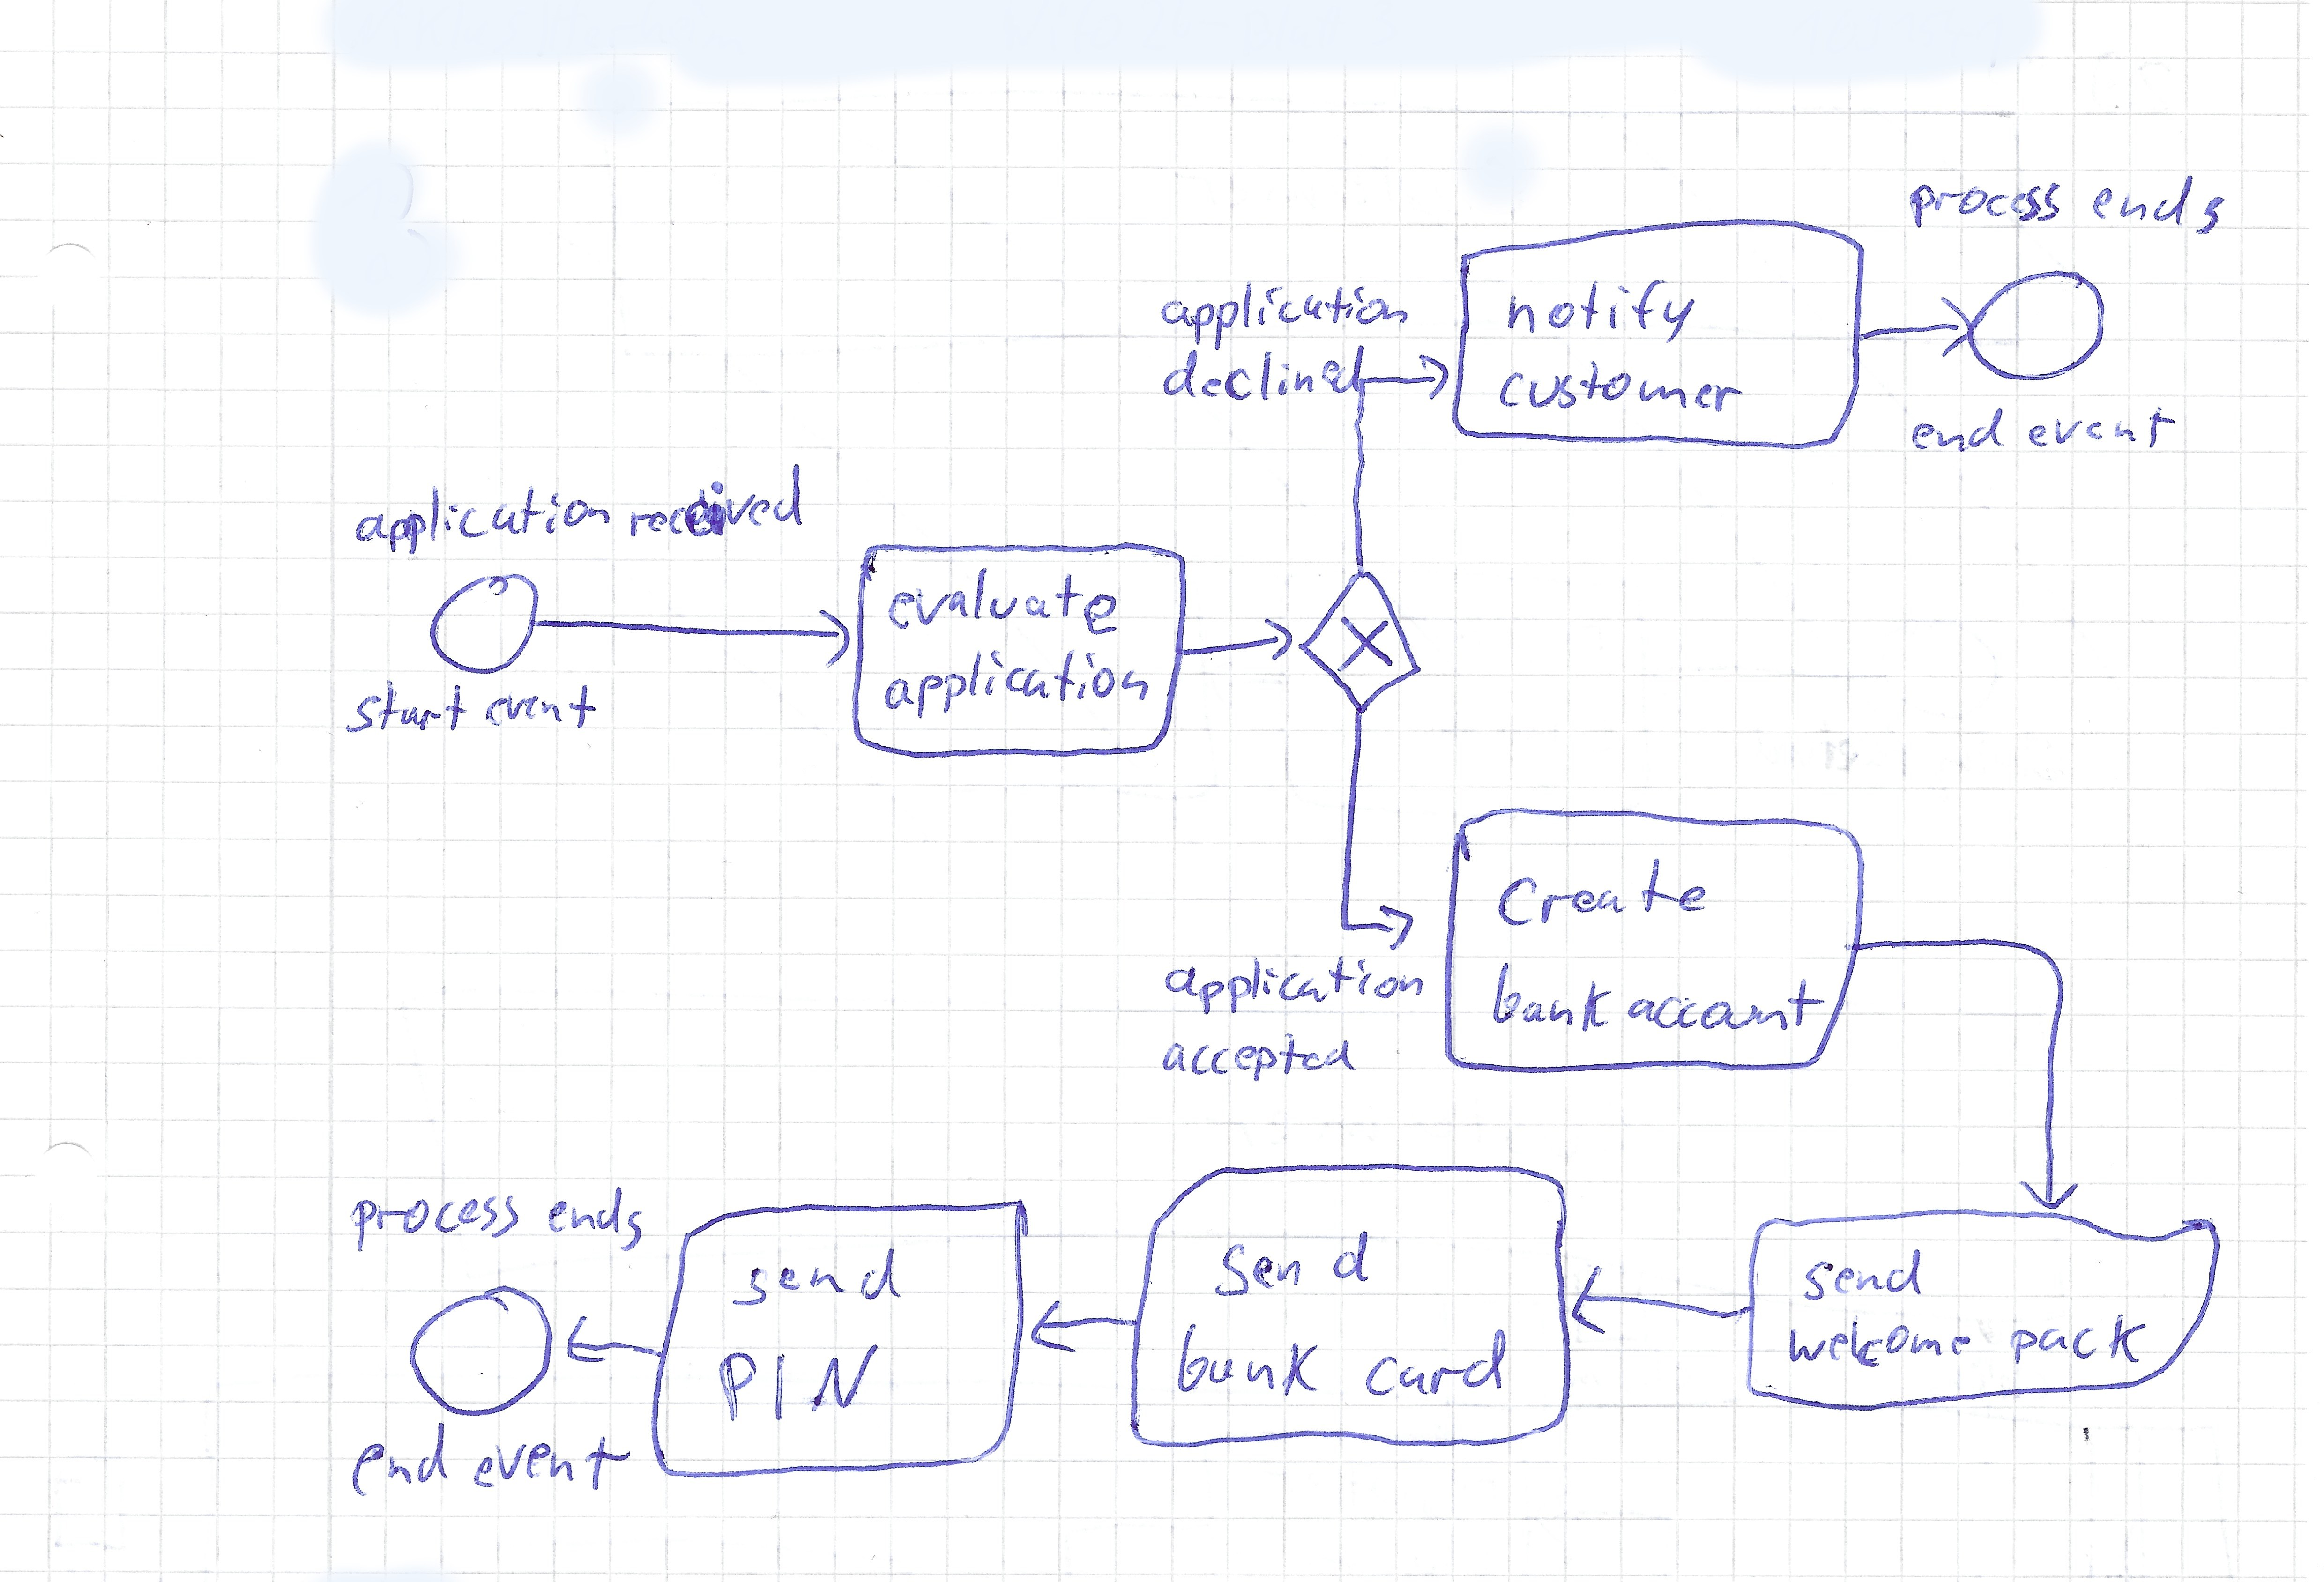PIN: (715, 1344, 881, 1421)
accepted: (1158, 1033, 1360, 1081)
account: (1626, 978, 1822, 1033)
application: (885, 646, 1151, 717), (357, 484, 613, 556), (1158, 281, 1411, 350), (1160, 953, 1427, 1013)
bank: (1171, 1324, 1319, 1402), (1492, 962, 1614, 1031)
card: (1360, 1328, 1513, 1404)
create: (1496, 858, 1709, 927)
customer: (1494, 358, 1741, 418)
declined: (1160, 346, 1370, 401)
end: (348, 1421, 449, 1503), (1909, 410, 2004, 456)
ends: (2091, 169, 2225, 242), (546, 1186, 645, 1252)
evaluate: (887, 569, 1120, 637)
event: (472, 1435, 630, 1494), (2029, 408, 2176, 454), (484, 683, 600, 733)
notify: (1499, 277, 1701, 348)
pack: (2008, 1315, 2149, 1363)
process: (346, 1194, 521, 1254), (1907, 180, 2077, 230)
received: (616, 482, 811, 549)
send: (1213, 1225, 1370, 1298), (733, 1245, 902, 1308), (1805, 1245, 1925, 1305)
start: (343, 680, 470, 734)
welcome: (1784, 1317, 1974, 1370)
